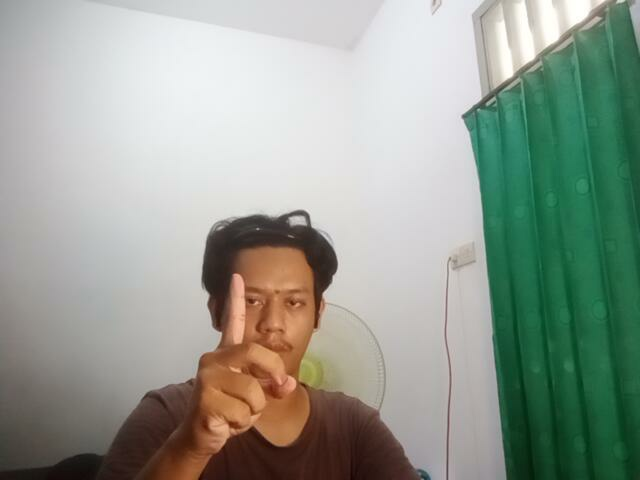D: (181, 272, 299, 457)
